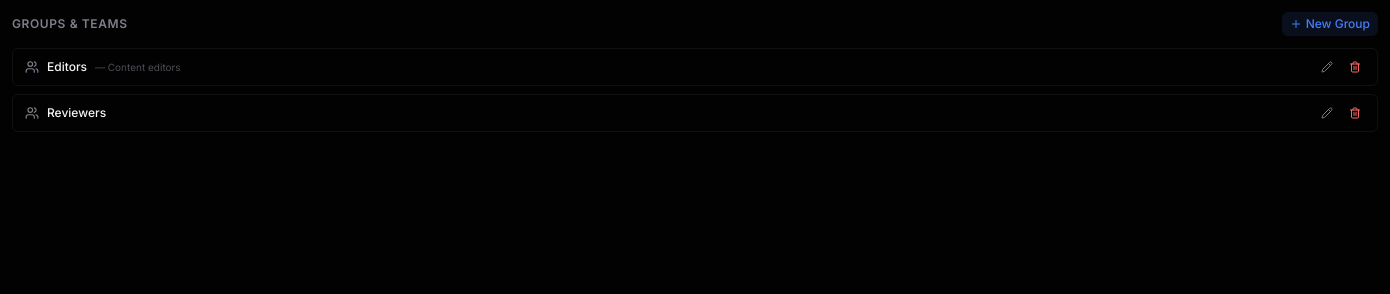
Test: GroupsPanel › expands to show members when group is clicked
The image size is (1390, 294).
Click the text "Editors". click: (67, 67)
box: [47,59,87,75]
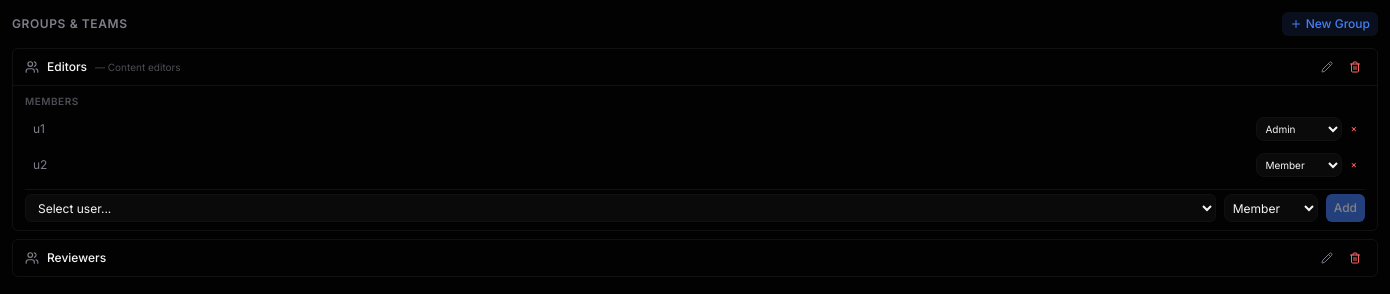
Check: the text "Members" is shown, box [25,95,79,107]
